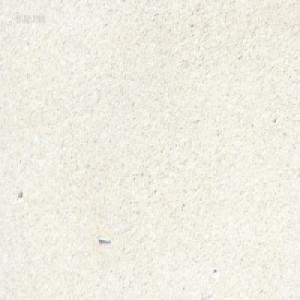Nail: (96, 234, 111, 243)
